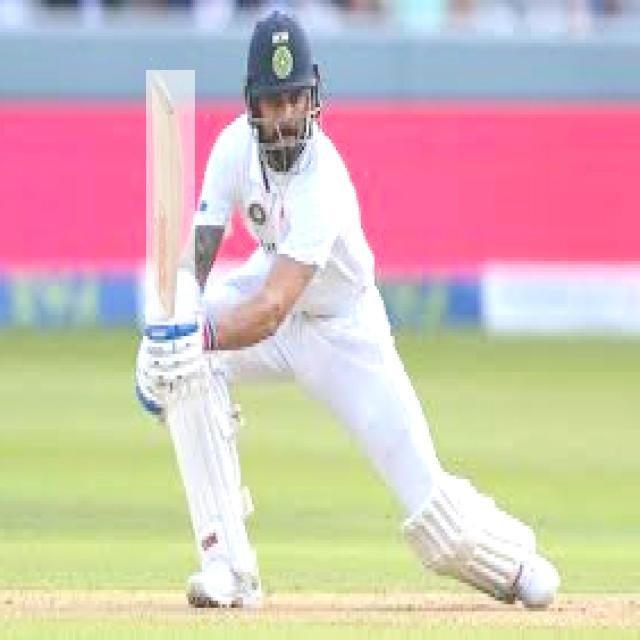bat: (146, 71, 195, 322)
toe: (148, 73, 182, 114)
